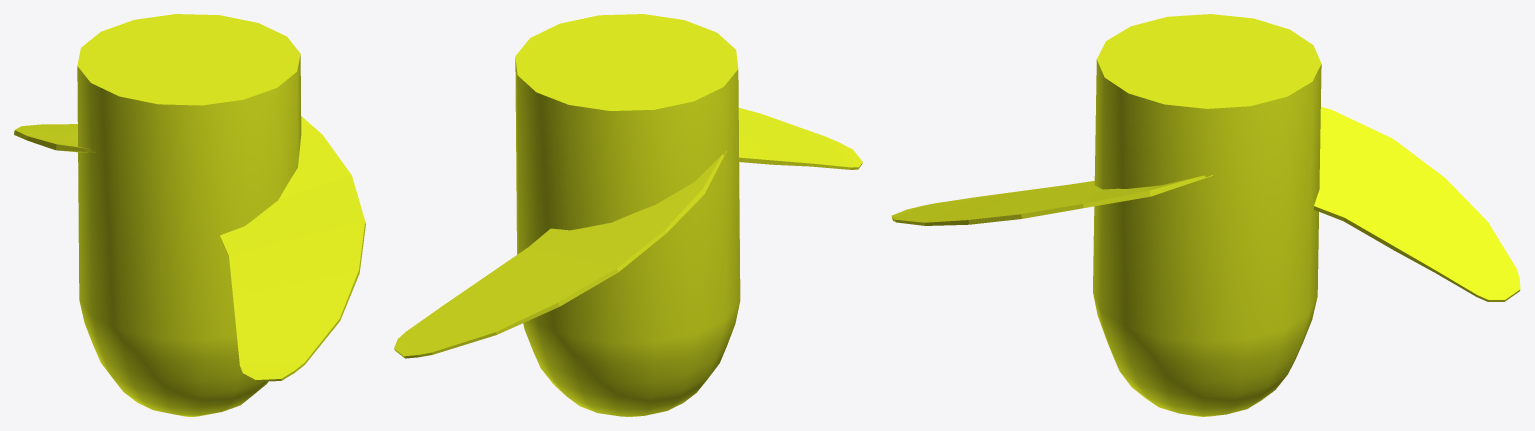
File: m200_weedless_prop_cw_visual.glb
3 views of the same model, side by side, from view 1: azimuth 30°, elevation 25°; view 2: azimuth 150°, elevation 25°; view 3: azimuth 270°, elevation 25° (orthographic).
Parts seen in each view (by area): view 1: m200_weedless_prop_cw.visual.001; view 2: m200_weedless_prop_cw.visual.001; view 3: m200_weedless_prop_cw.visual.001.
Boxes of the visible parts, x1,y1,x2,y2 form: m200_weedless_prop_cw.visual.001: (14,14,365,416); m200_weedless_prop_cw.visual.001: (394,14,862,416); m200_weedless_prop_cw.visual.001: (891,14,1520,416).
Size of the model in its own units: 0.0427 by 0.0677 by 0.1103.
Materials: 1 (1 with a texture image).
